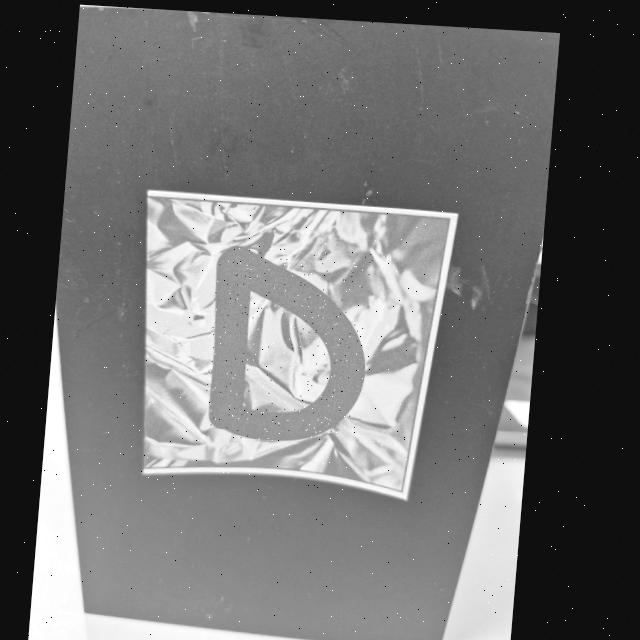D: (216, 243, 370, 437)
